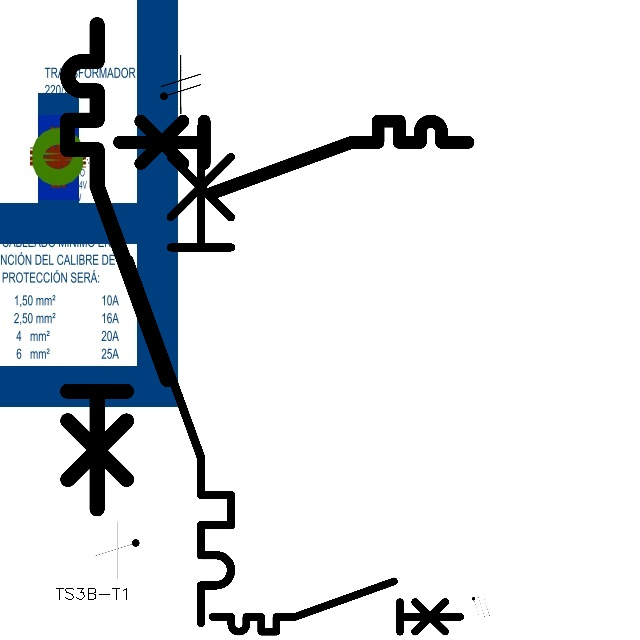interruptor_termomagnetico: (116, 114, 244, 636), (55, 12, 179, 521), (110, 112, 476, 201), (206, 575, 466, 638)
